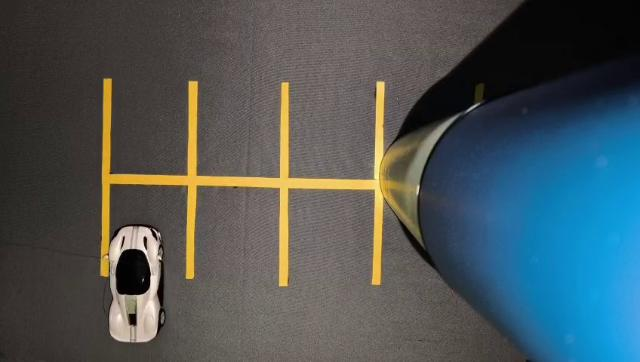toy_car: (93, 200, 205, 359)
